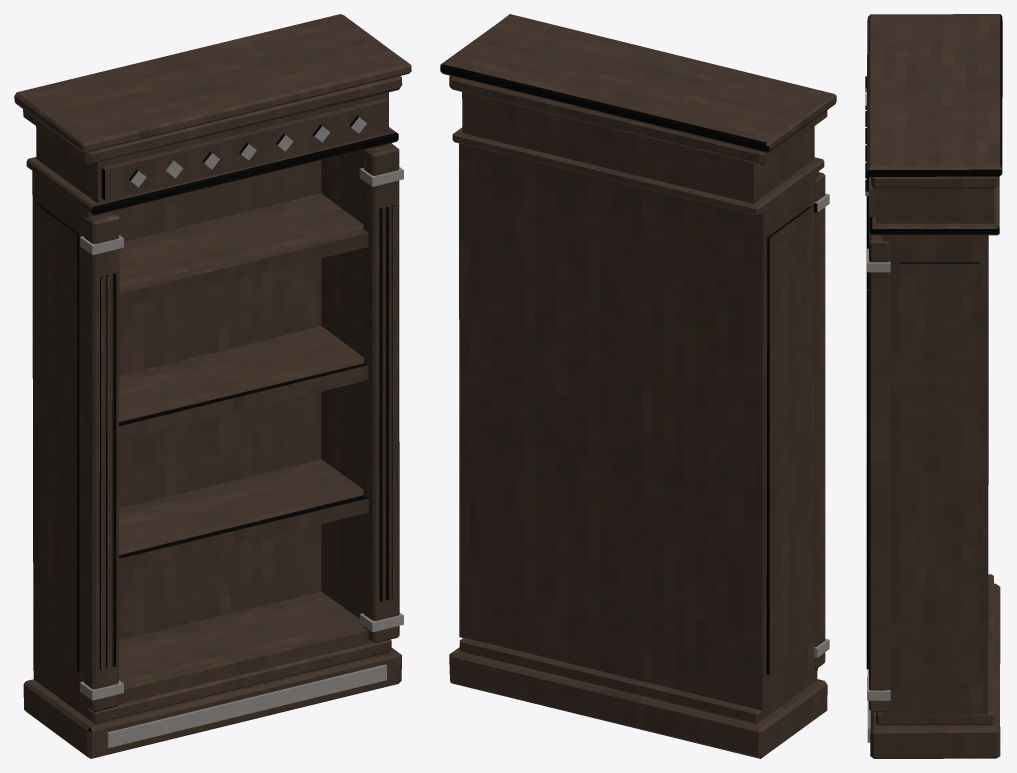
The model's file is bookcase_01.glb.
3 views of the same model, side by side, from view 1: azimuth 30°, elevation 25°; view 2: azimuth 150°, elevation 25°; view 3: azimuth 270°, elevation 25° (orthographic). The views are drawn at different scales.
Parts seen in each view (by area): view 1: bookcase_01; view 2: bookcase_01; view 3: bookcase_01.
Boxes of the visible parts, <box> form: bookcase_01: <box>14,14,411,758</box>; bookcase_01: <box>440,14,836,758</box>; bookcase_01: <box>865,14,1002,758</box>.
Bounding box in the file's own units: 1.3 × 2.34 × 0.4882.
Materials: 4 (4 with a texture image).
